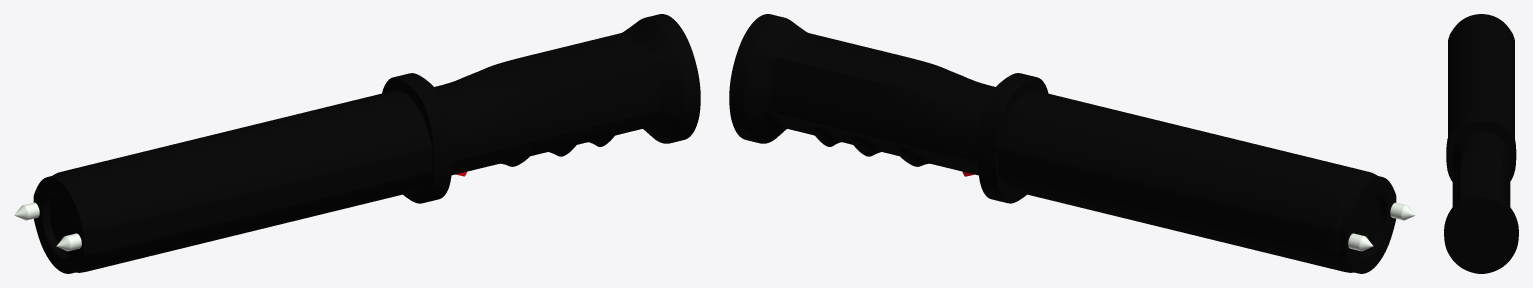
Rendered from StunBaton.fbx.
3 renders of one model, left to right at view 1: azimuth 30°, elevation 25°; view 2: azimuth 150°, elevation 25°; view 3: azimuth 270°, elevation 25°, orthographic. The views are drawn at different scales.
Parts seen in each view (by area): view 1: 19762_Stun_Baton_v1; view 2: 19762_Stun_Baton_v1; view 3: 19762_Stun_Baton_v1.
Part boxes in pixels (left/top/right/bottom): 19762_Stun_Baton_v1: left=14, top=14, right=700, bottom=273; 19762_Stun_Baton_v1: left=729, top=14, right=1415, bottom=273; 19762_Stun_Baton_v1: left=1444, top=14, right=1518, bottom=273.
Bounding box in the file's own units: 2961 × 531 × 469.
1 material, 1 textured.
